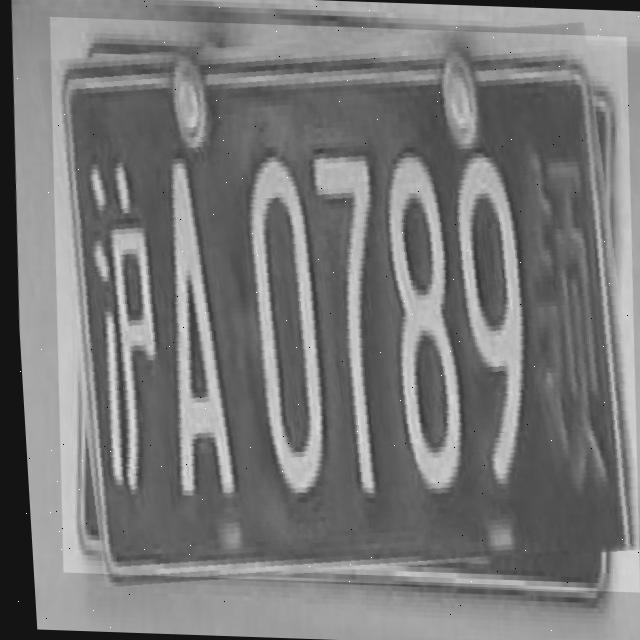LicensePlate: (30, 16, 640, 592)
